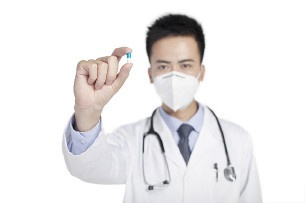Mask: (150, 58, 199, 107)
